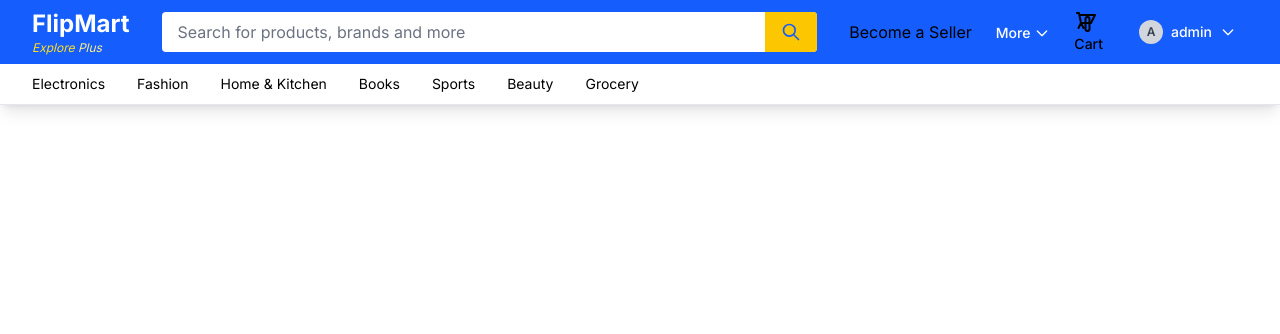
Test: Header Component › User Dropdown Menu › shows admin panel for admin users
Click the text "admin" at [1192, 32], box x1=1171 y1=22 x2=1212 y2=42
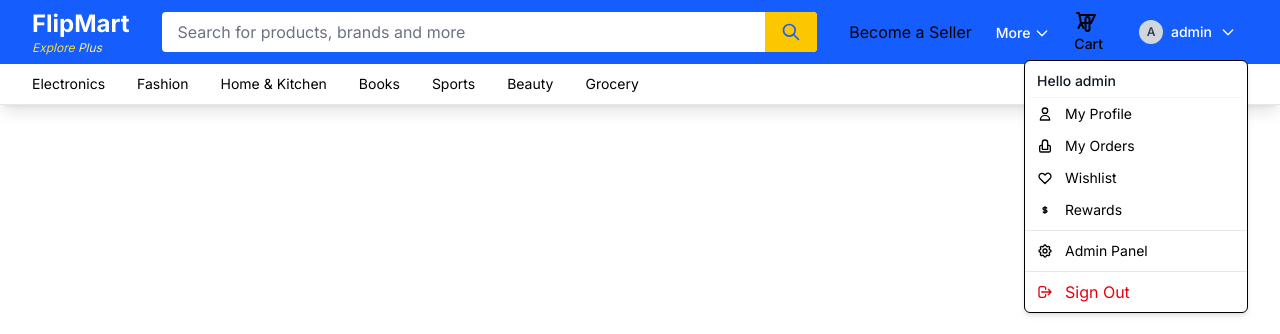
Now the button "Admin Panel" is shown, box x1=1029 y1=235 x2=1243 y2=267
